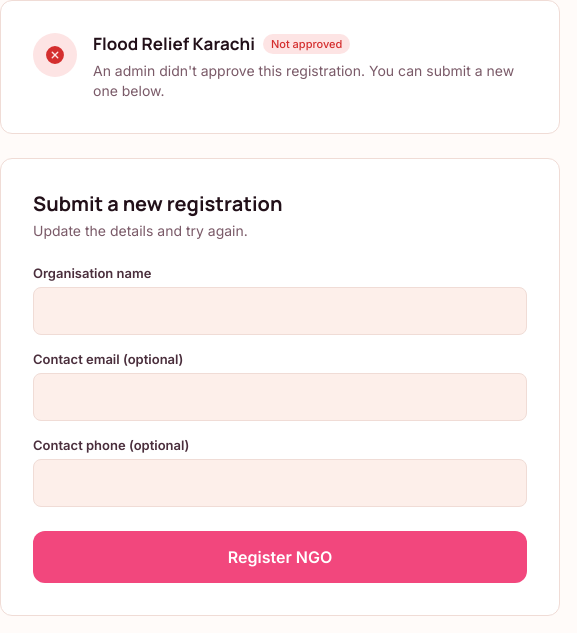
Test: MyNgoPage › resubmitting after a rejection swaps the card to the new pending row
Type "Second Try" into the field labelled "Organisation name". click: {"x": 280, "y": 311}
box: [33,287,527,335]
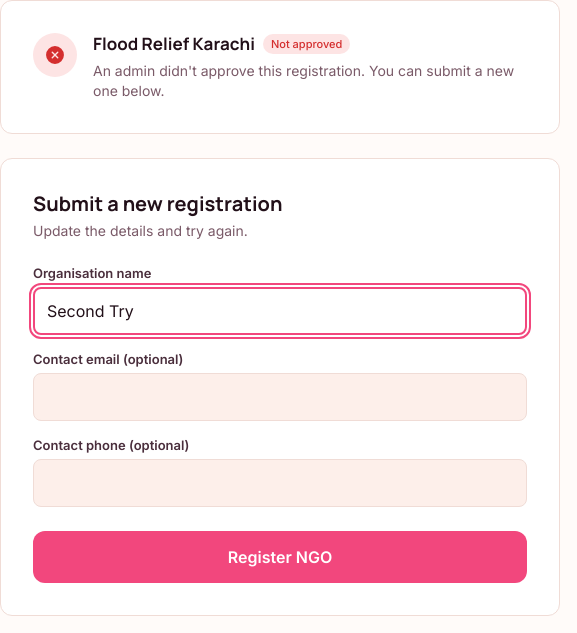
Click the button named "Register NGO". click: {"x": 280, "y": 557}
box: [33,531,527,583]
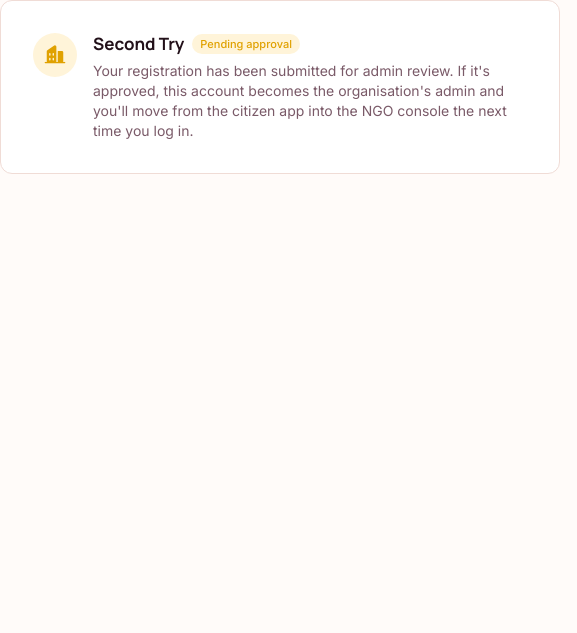
Result: the text "Pending approval" is shown at [192,34,300,54]
Result: the heading "Second Try" is shown at [93,33,184,55]
Result: the text "Not approved" is gone
